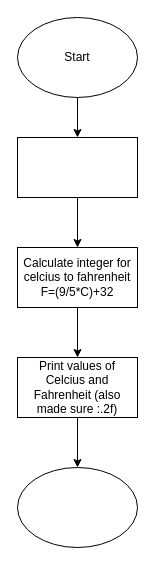
This 155x565 diagram has some shape labels left out. The shapes that lost their labels are listed below. From the top down, each one's centre as x and y in pixels, then its label:
At (77,167): "Ask user to enter Celcius Value".
At (77,507): "End".
